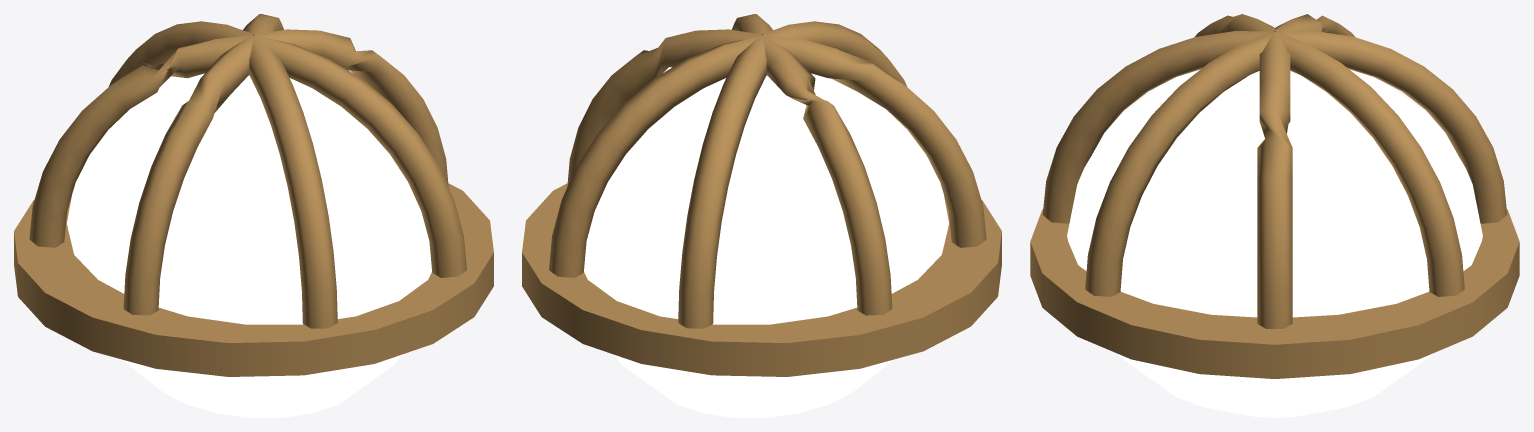
Rendered from SM_Menu_Footlight_04.fbx.
3 renders of one model, left to right at view 1: azimuth 30°, elevation 25°; view 2: azimuth 150°, elevation 25°; view 3: azimuth 270°, elevation 25°, orthographic.
Parts seen in each view (by area): view 1: Rod.083_Baked; view 2: Rod.083_Baked; view 3: Rod.083_Baked.
Boxes of the visible parts, box(x1,y1,x2,y2) form: Rod.083_Baked: box(14, 14, 493, 417); Rod.083_Baked: box(522, 14, 1001, 417); Rod.083_Baked: box(1030, 14, 1519, 417).
Size of the model in its own units: 40 by 40 by 33.44.
